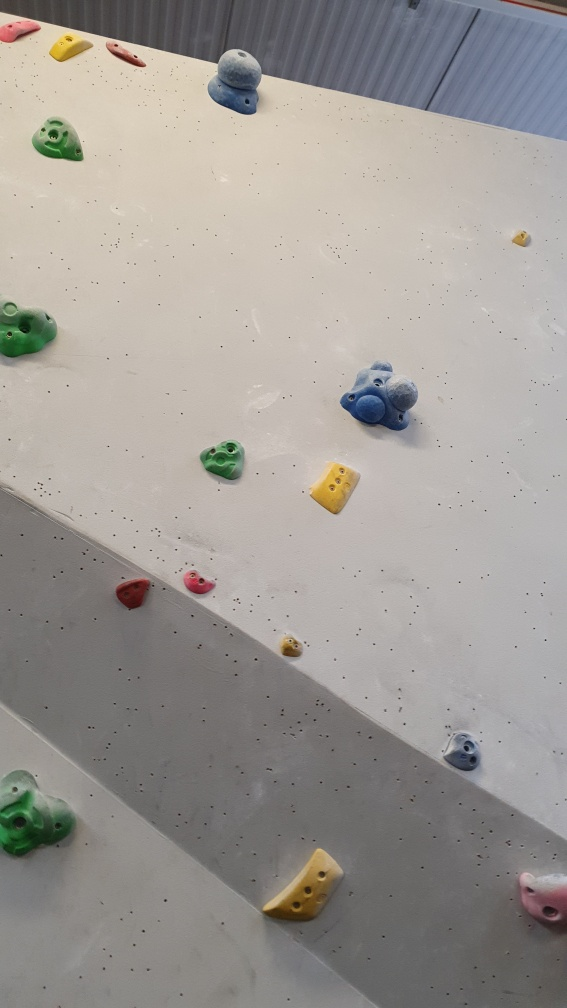Crimp: (256, 838, 348, 928), (311, 457, 362, 512), (102, 38, 148, 74)
Jug: (1, 763, 85, 874), (1, 293, 58, 362), (33, 111, 87, 162), (198, 434, 250, 481)
Pinch: (47, 31, 99, 70)
Sloper: (340, 352, 423, 434), (203, 47, 268, 121)
